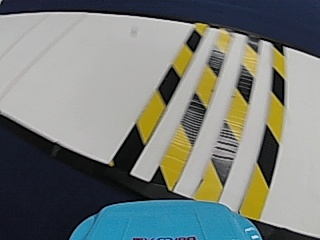bump: (107, 28, 285, 195)
